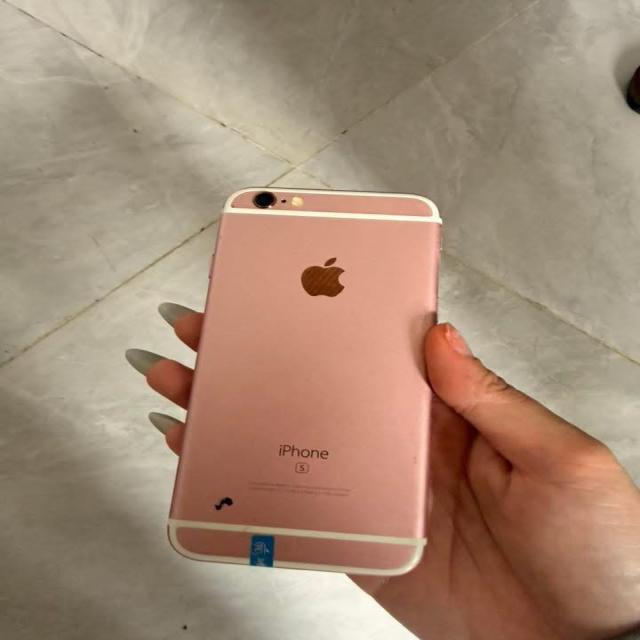scratch: (212, 495, 235, 511), (422, 302, 431, 328), (237, 523, 254, 536), (410, 454, 419, 465), (218, 234, 224, 241), (230, 203, 237, 209)
